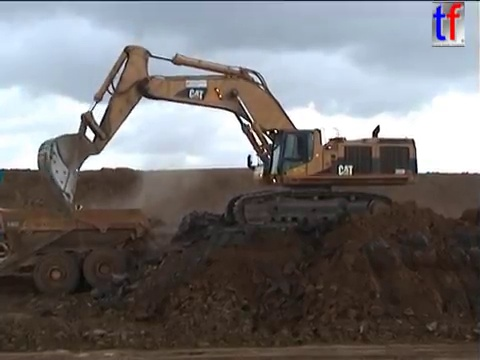excavator: (33, 40, 421, 236)
truck: (1, 204, 152, 296)
worker: (71, 198, 84, 224)
